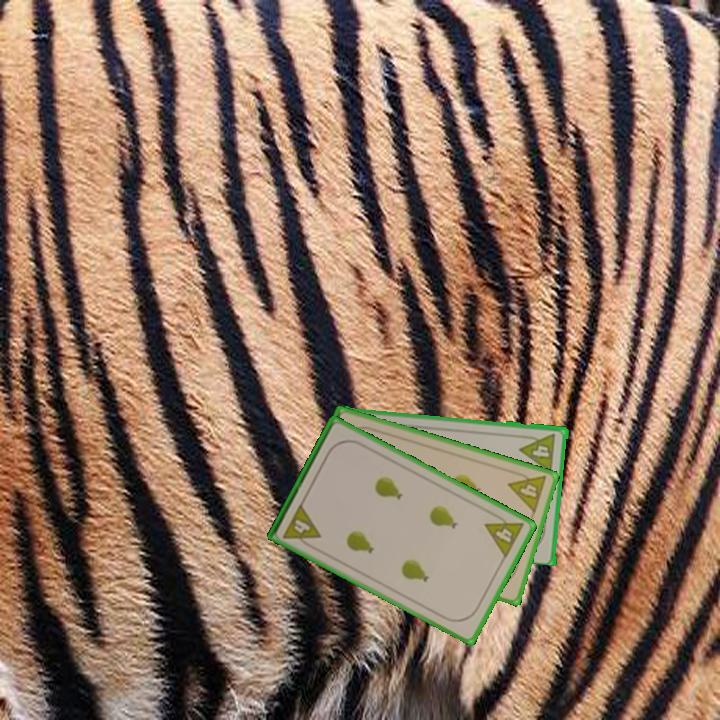4p: (481, 508, 527, 561), (280, 500, 324, 551), (505, 467, 550, 516), (517, 430, 559, 474)
